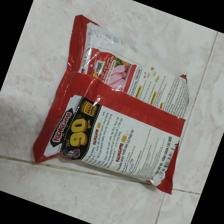Kokomi: (30, 13, 190, 198)
